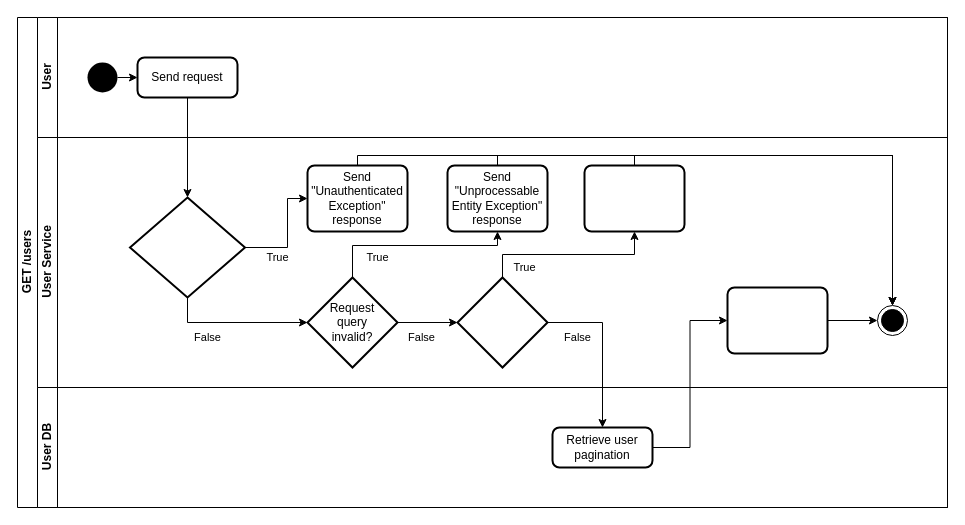
Some shapes in this 965 by 525 pixel diagram are drawn without their labels. Each missing label, with the centre of its shape:
Action not authorized?: (x=502, y=322)
Request not authenticated ?: (x=187, y=247)
Send "200" response with user pagination in body: (x=777, y=320)
Send "Unauthorized Exception" response: (x=634, y=198)
